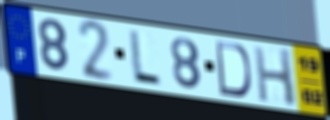2: (76, 17, 116, 84)
8: (37, 17, 72, 73), (169, 36, 203, 91)
D: (214, 39, 254, 100)
H: (252, 45, 299, 109)
L: (127, 28, 164, 89)
